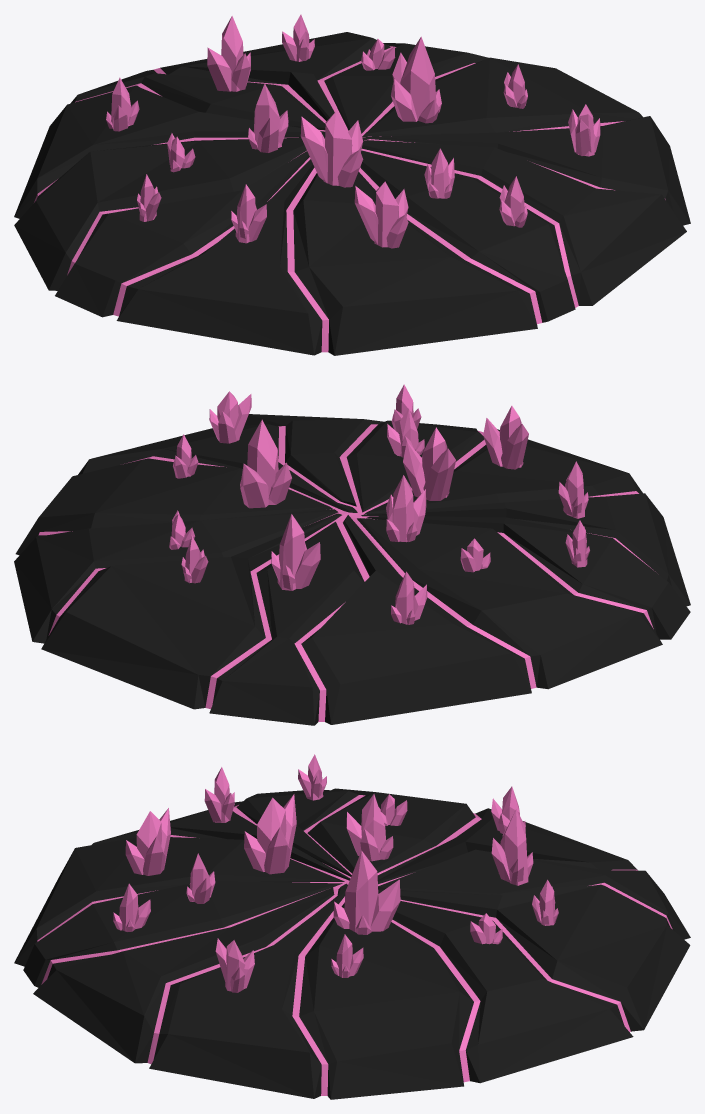
Rendered from SM_Quartz_Node.fbx.
3 renders of one model, top to bottom at view 1: azimuth 30°, elevation 25°; view 2: azimuth 150°, elevation 25°; view 3: azimuth 270°, elevation 25°, orthographic. The views are drawn at different scales.
Parts seen in each view (by area): view 1: SM_Quartz_Node_Base; view 2: SM_Quartz_Node_Base; view 3: SM_Quartz_Node_Base.
Boxes of the visible parts, x1=… form: SM_Quartz_Node_Base: x1=14, y1=14, x2=690, y2=355; SM_Quartz_Node_Base: x1=14, y1=384, x2=690, y2=725; SM_Quartz_Node_Base: x1=14, y1=754, x2=690, y2=1099.
Bounding box in the file's own units: 187 × 42.85 × 182.
